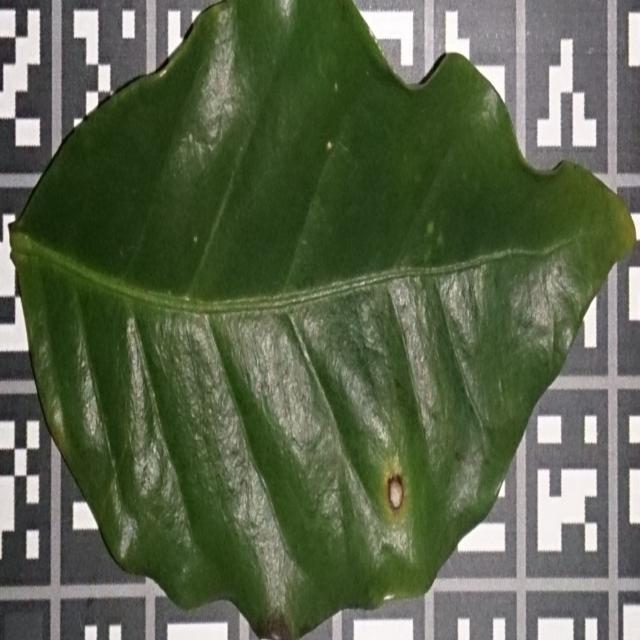Enfermedad-Mancha-de-hierro: (10, 0, 637, 640)
